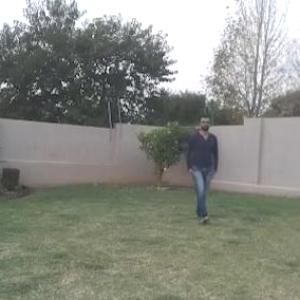follow: (185, 114, 220, 223)
